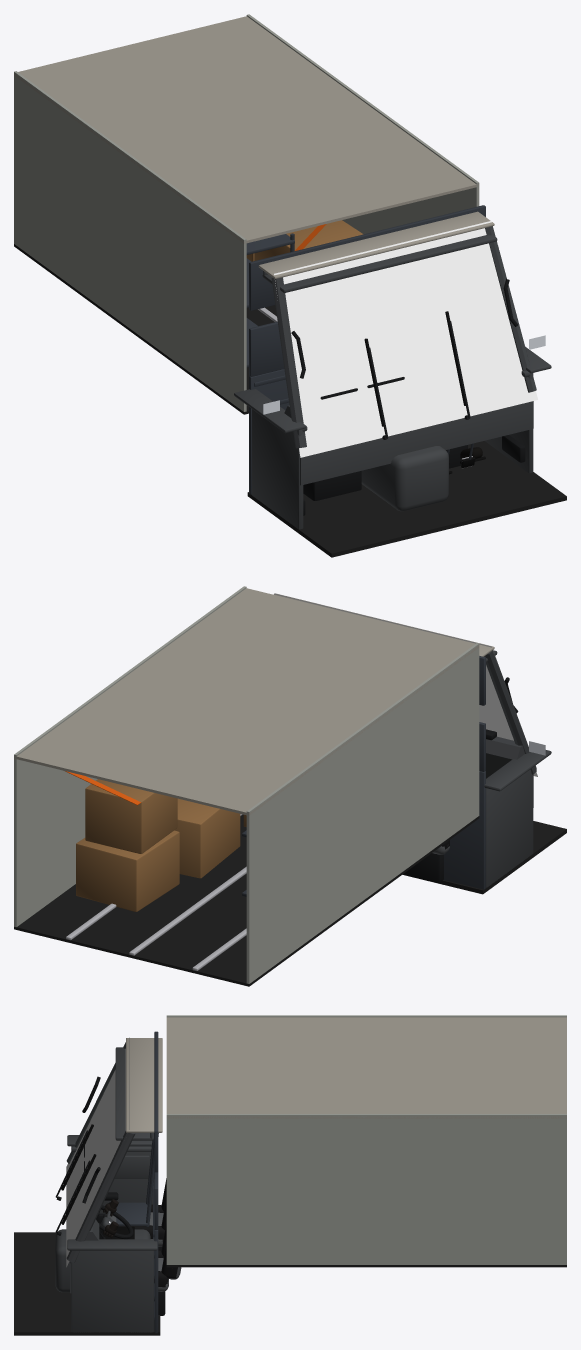
Rendered from interior-van.glb.
3 views of the same model, one above another, from view 1: azimuth 30°, elevation 25°; view 2: azimuth 150°, elevation 25°; view 3: azimuth 270°, elevation 25° (orthographic). The views are drawn at different scales.
Parts seen in each view (by area): view 1: Cabin, RainGlass; view 2: Cabin, RainGlass; view 3: Cabin, RainGlass, Wheel, Wiper_A.
Part boxes in pixels (left/top/right/bottom): Cabin: left=14, top=14, right=566, bottom=557; RainGlass: left=274, top=221, right=537, bottom=457; Cabin: left=14, top=586, right=566, bottom=986; RainGlass: left=274, top=593, right=537, bottom=776; Cabin: left=14, top=1015, right=566, bottom=1335; RainGlass: left=66, top=1037, right=129, bottom=1267; Wheel: left=98, top=1199, right=133, bottom=1239; Wiper_A: left=55, top=1154, right=96, bottom=1235.
Bounding box in the file's own units: 2.23 × 1.96 × 4.35.
